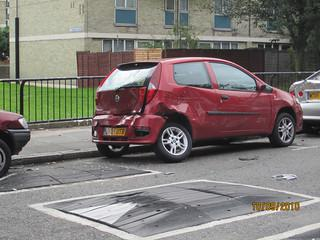boot-dent: (87, 88, 143, 116)
quaterpanel-dent: (153, 84, 204, 129)
rear-bumper-dent: (91, 113, 144, 143)
